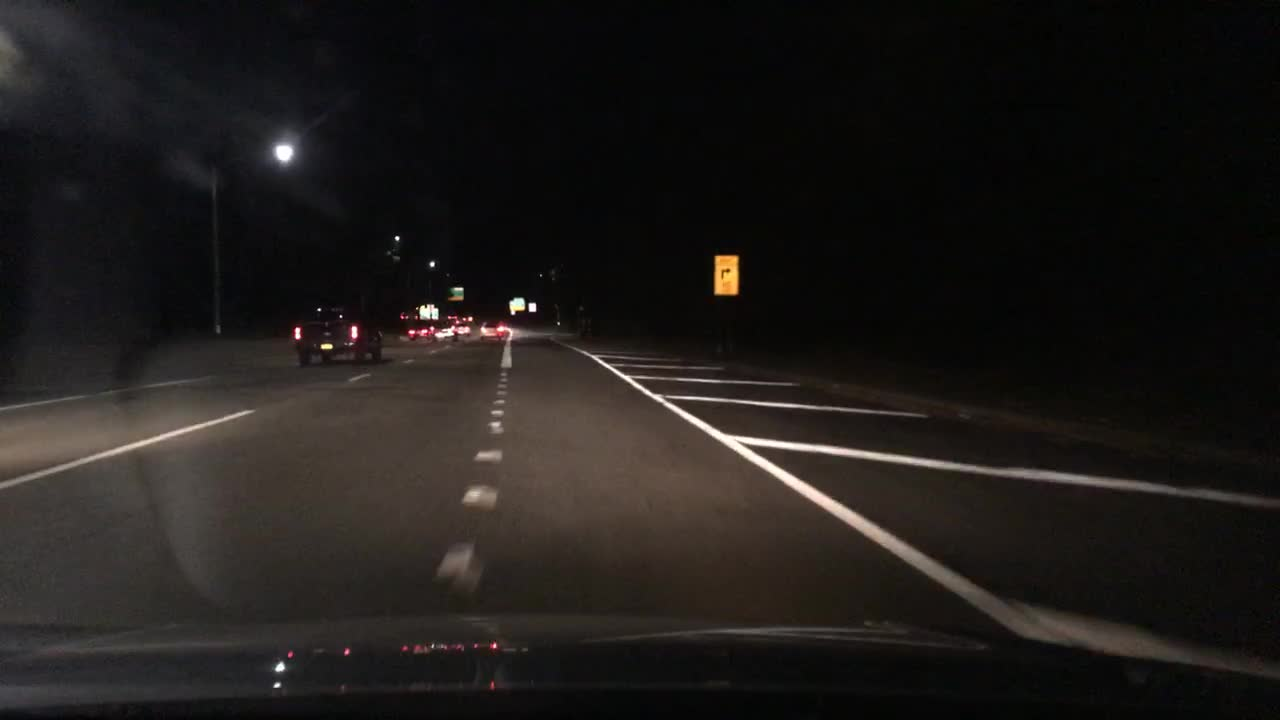car: (289, 299, 386, 367), (406, 316, 435, 341), (478, 318, 505, 342), (450, 318, 472, 339), (438, 322, 458, 341), (461, 312, 475, 321)
traffic sign: (713, 254, 738, 295), (418, 301, 438, 320), (446, 283, 467, 301), (511, 295, 528, 310), (527, 298, 539, 311)
